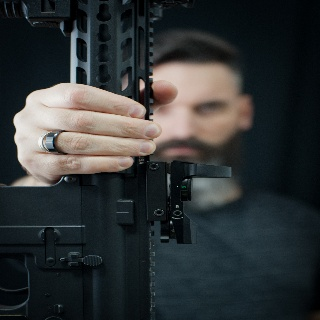rifle: (1, 1, 232, 320)
